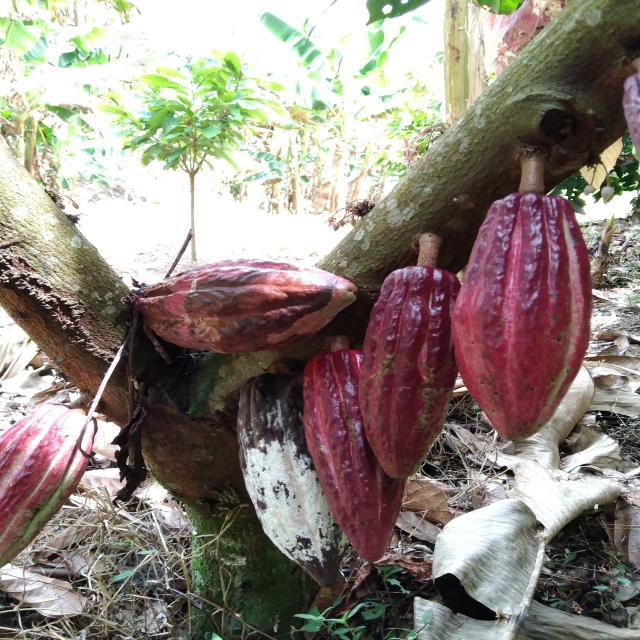Fitoftora: (130, 259, 352, 349)
Monilia: (226, 372, 342, 585)
Sana: (458, 195, 583, 434), (305, 350, 396, 563), (361, 268, 452, 477), (2, 403, 96, 568)
